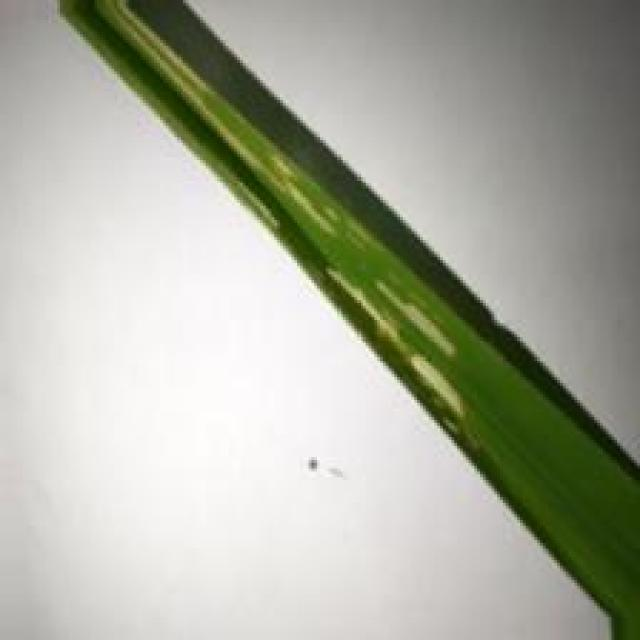Rice_Hispa: (102, 3, 344, 229), (324, 266, 466, 427), (372, 283, 460, 360)
